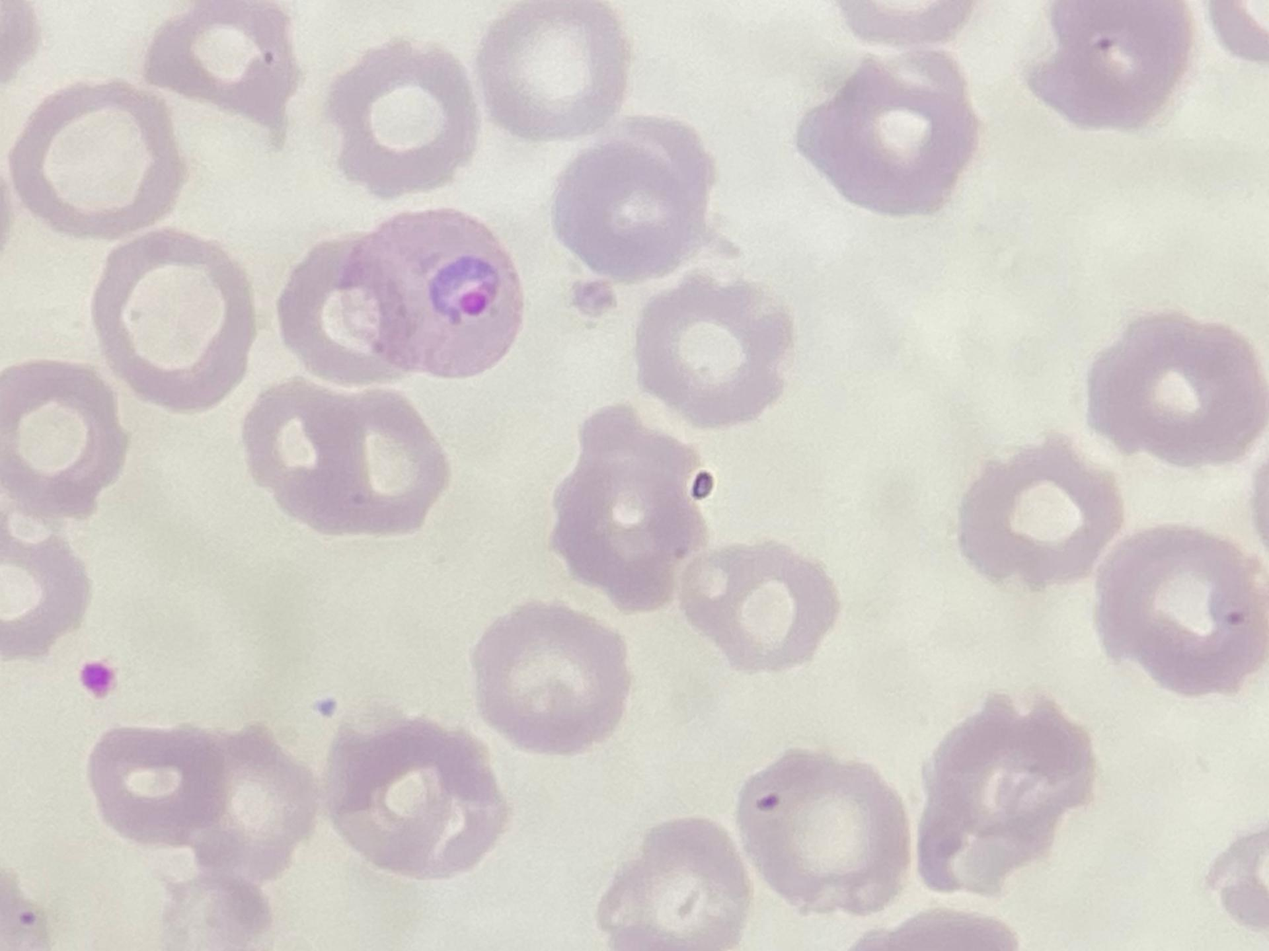Infected: (740, 571, 922, 743)
Uninfected: (174, 56, 353, 251), (558, 341, 718, 539), (820, 413, 1024, 567), (0, 249, 176, 423), (288, 734, 469, 901), (1013, 539, 1176, 719), (761, 73, 943, 233), (359, 38, 531, 199), (1, 482, 179, 637), (550, 670, 717, 830), (1081, 712, 1250, 868), (143, 361, 313, 514), (636, 196, 797, 348), (475, 523, 635, 675), (792, 755, 947, 909), (853, 563, 997, 716), (950, 73, 1089, 221), (638, 810, 787, 947), (78, 822, 239, 948), (1139, 432, 1269, 588), (432, 278, 589, 406), (974, 816, 1122, 948), (518, 1, 667, 128), (1035, 104, 1182, 227)
